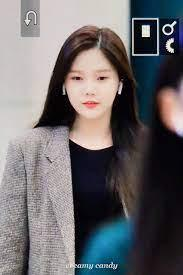earphone: (112, 82, 125, 97), (58, 82, 68, 96)
